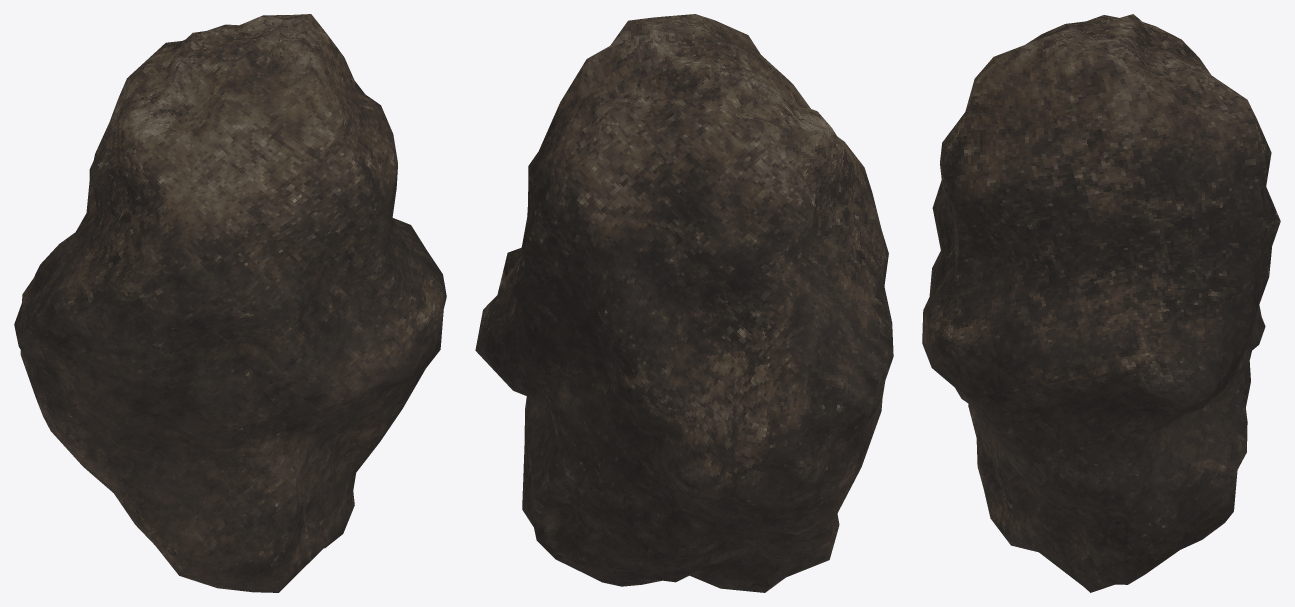
The model's file is SM_RP2_Rock_8m_5.glb.
The picture shows the model from 3 angles, left to right: view 1: azimuth 30°, elevation 25°; view 2: azimuth 150°, elevation 25°; view 3: azimuth 270°, elevation 25°; orthographic projection. The views are drawn at different scales.
Parts seen in each view (by area): view 1: SM_RP2_Rock_8m_5; view 2: SM_RP2_Rock_8m_5; view 3: SM_RP2_Rock_8m_5.
Boxes of the visible parts, bbox=[...] form: SM_RP2_Rock_8m_5: bbox=[14, 14, 446, 592]; SM_RP2_Rock_8m_5: bbox=[475, 14, 893, 592]; SM_RP2_Rock_8m_5: bbox=[922, 14, 1280, 592].
Bounding box in the file's own units: 9.17 × 12.6 × 7.66.
Materials: 1 (1 with a texture image).
